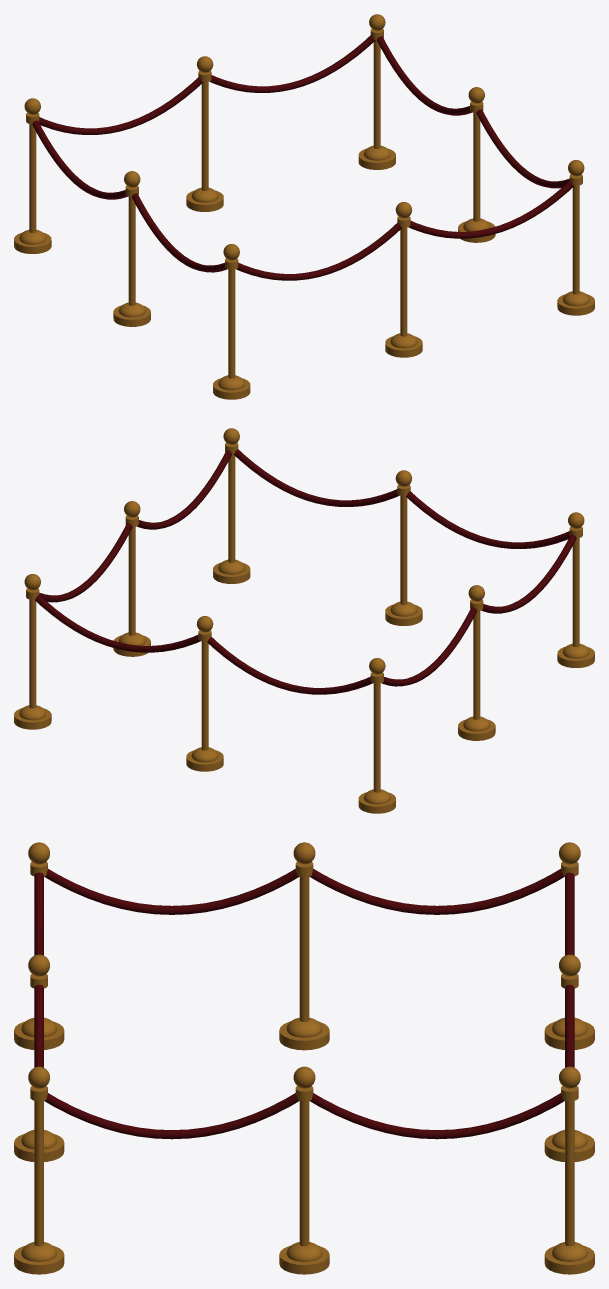
Rendered from Rail_Egypt_Pyramid.fbx.
The picture shows the model from 3 angles, top to bottom: view 1: azimuth 30°, elevation 25°; view 2: azimuth 150°, elevation 25°; view 3: azimuth 270°, elevation 25°; orthographic projection. The views are drawn at different scales.
Parts seen in each view (by area): view 1: M_Barrier_Brass, M_Barrier_RedVelvet; view 2: M_Barrier_Brass, M_Barrier_RedVelvet; view 3: M_Barrier_Brass, M_Barrier_RedVelvet.
Boxes of the visible parts, x1=… form: M_Barrier_Brass: x1=14, y1=14, x2=594, y2=399; M_Barrier_RedVelvet: x1=32, y1=35, x2=574, y2=280; M_Barrier_Brass: x1=14, y1=428, x2=594, y2=813; M_Barrier_RedVelvet: x1=34, y1=449, x2=576, y2=694; M_Barrier_Brass: x1=14, y1=842, x2=594, y2=1274; M_Barrier_RedVelvet: x1=34, y1=869, x2=574, y2=1139.
Size of the model in its own units: 277 by 103 by 277.
